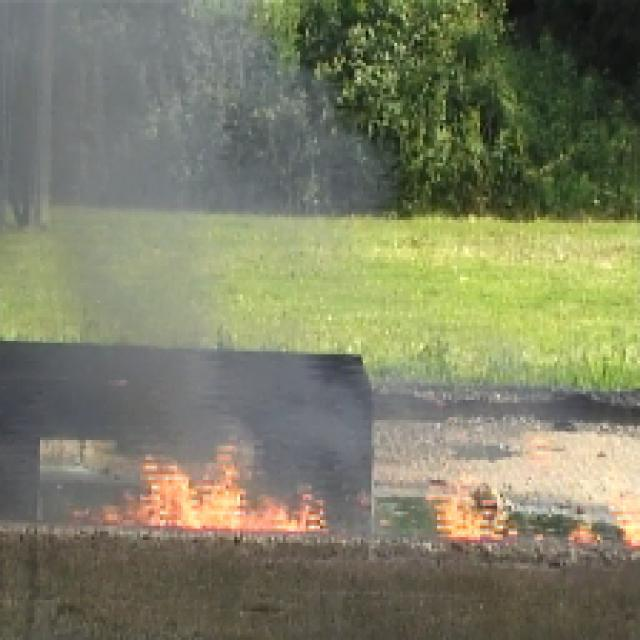Fire: (143, 462, 304, 537)
